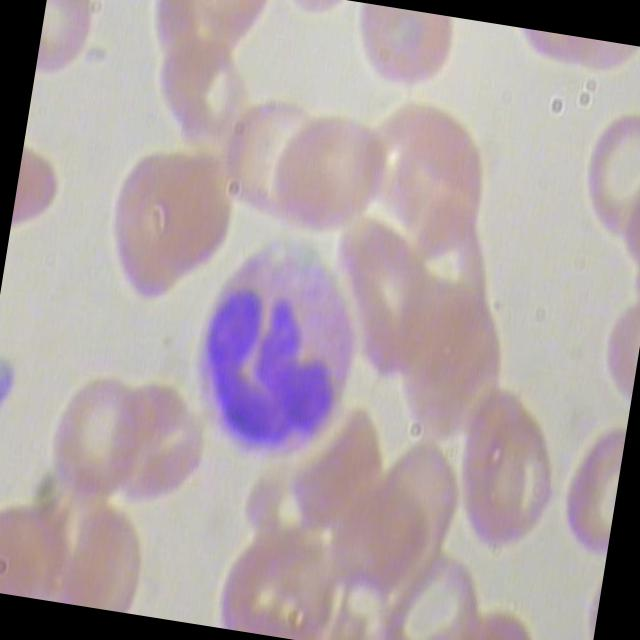Platelets: (0, 354, 27, 428)
RBC: (91, 143, 212, 318), (447, 386, 568, 560), (266, 108, 396, 248), (103, 379, 223, 522), (36, 366, 156, 508), (569, 102, 640, 252)
WBC: (182, 224, 374, 476)
